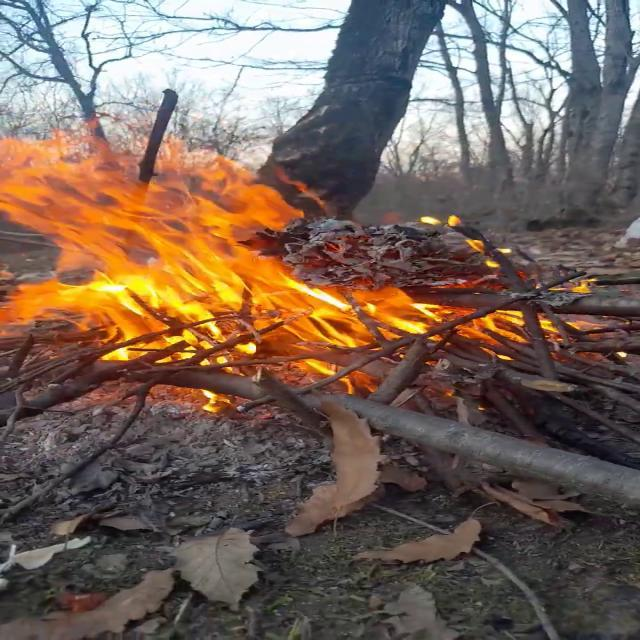Fire: (1, 110, 540, 404)
